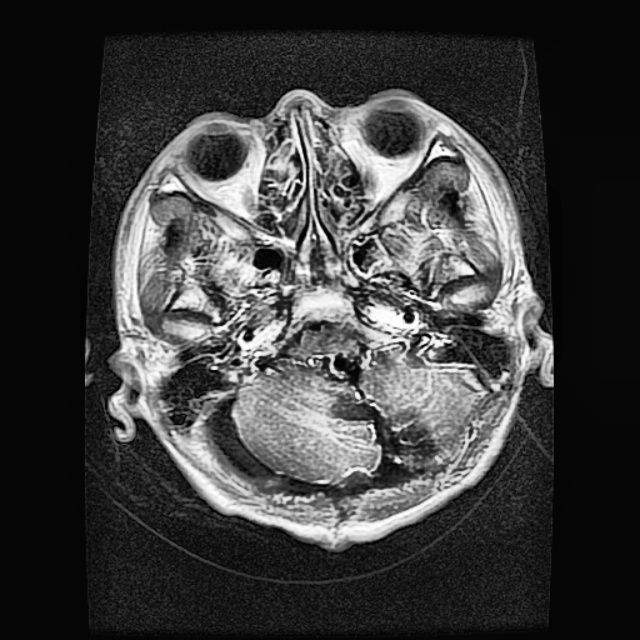Glioma: (329, 393, 440, 468)
